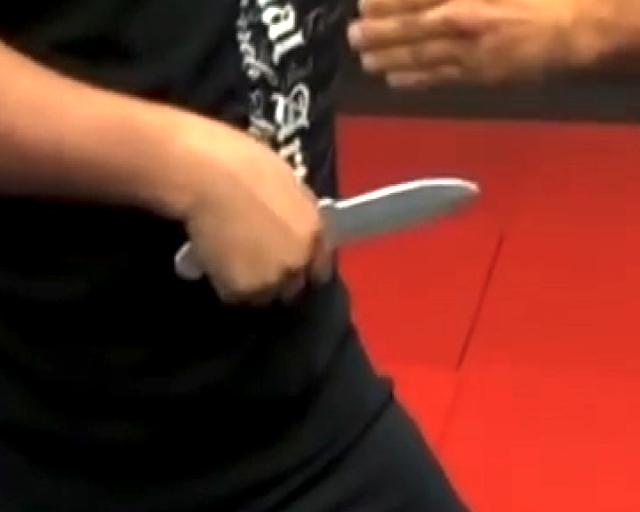pocket-knife: (171, 180, 487, 280)
